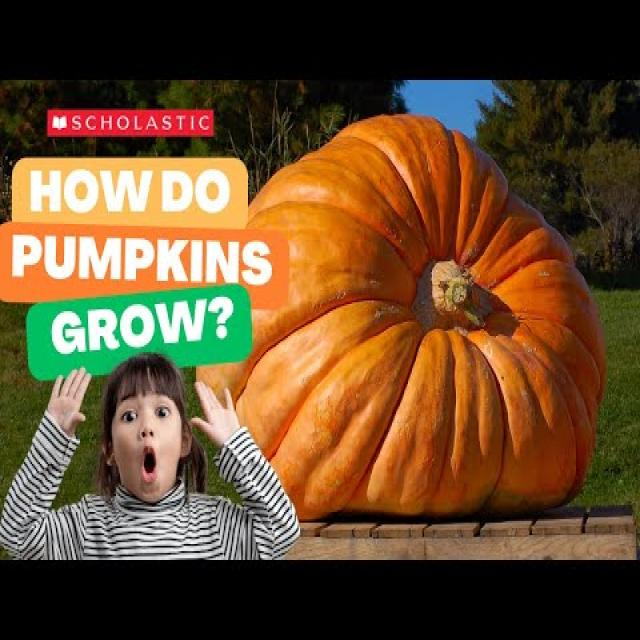pumpkin: (201, 115, 605, 519)
